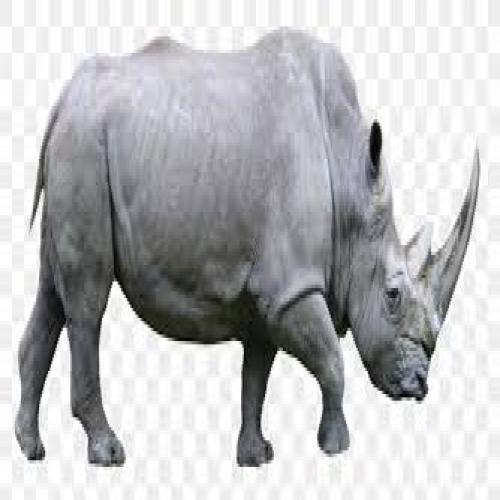rhino-endangered: (14, 27, 483, 464)
